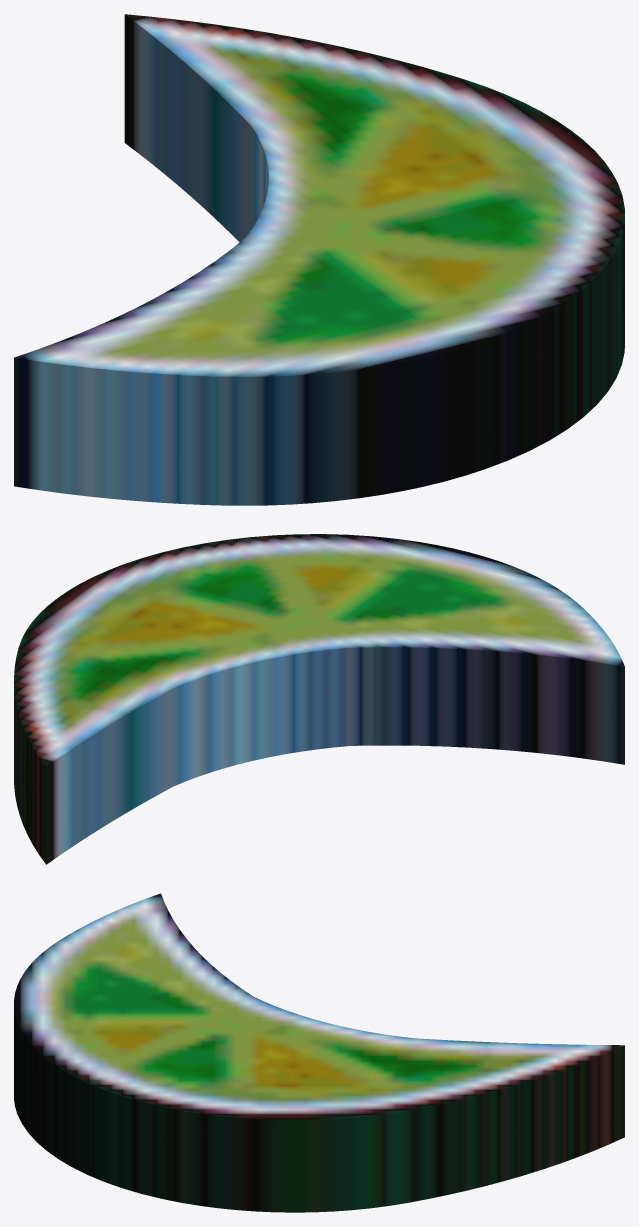
Rendered from muro de la carne 7.dae.
3 views of the same model, one above another, from view 1: azimuth 30°, elevation 25°; view 2: azimuth 150°, elevation 25°; view 3: azimuth 270°, elevation 25° (orthographic). The views are drawn at different scales.
Visible parts, largest first — view 1: SketchUp; view 2: SketchUp; view 3: SketchUp.
Boxes of the visible parts, box(x1,y1,x2,y2) form: SketchUp: box(14, 14, 624, 505); SketchUp: box(14, 534, 624, 864); SketchUp: box(14, 893, 624, 1212).
Bounding box in the file's own units: 6.94 × 7.89 × 1.31.
